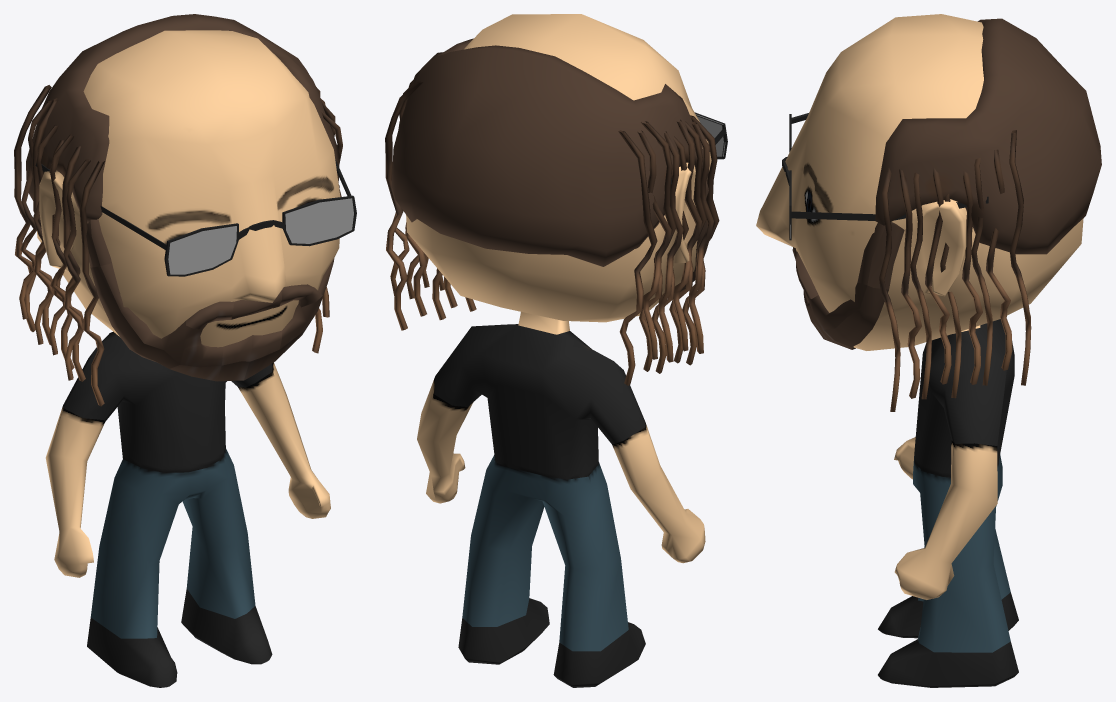
The model's file is Mike.fbx.
3 renders of one model, left to right at view 1: azimuth 30°, elevation 25°; view 2: azimuth 150°, elevation 25°; view 3: azimuth 270°, elevation 25°, orthographic.
Parts seen in each view (by area): view 1: Mike_head, Mike_body, Mike_hair_02, Mike_hair_low, Mike_lens_01, Mike_lens_02, Make_glasses_frame, Mike_beard_03, Mike_beard_06, Mike_beard_02, Mike_beard_013, Mike_beard_04 (+5 smaller); view 2: Mike_body, Mike_hair_low, Mike_head, Mike_hair_02; view 3: Mike_head, Mike_body, Mike_hair_low, Mike_hair_02, Mike_beard_014, Make_glasses_frame, Mike_beard_013, Mike_beard_017, Mike_beard_016.
Boxes of the visible parts, x1,y1,x2,y2 form: Mike_head: (37,30,340,347); Mike_body: (45,331,330,687); Mike_hair_02: (14,85,342,406); Mike_hair_low: (26,14,340,223); Mike_lens_01: (168,226,236,274); Mike_lens_02: (285,198,353,243); Make_glasses_frame: (35,159,356,276); Mike_beard_03: (100,262,202,364); Mike_beard_06: (90,266,179,368); Mike_beard_02: (186,284,322,329); Mike_beard_013: (280,258,334,348); Mike_beard_04: (180,344,223,367); Mike_body: (417,312,705,687); Mike_hair_low: (391,38,708,266); Mike_head: (406,14,711,322); Mike_hair_02: (385,80,719,385); Mike_head: (756,14,1083,350); Mike_body: (878,319,1018,687); Mike_hair_low: (875,18,1101,254); Mike_hair_02: (879,130,1031,411); Mike_beard_014: (824,285,888,347); Make_glasses_frame: (782,113,988,240); Mike_beard_013: (807,282,867,329); Mike_beard_017: (867,222,904,289); Mike_beard_016: (857,222,885,284).
Bounding box in the file's own units: 463 × 983 × 497.
